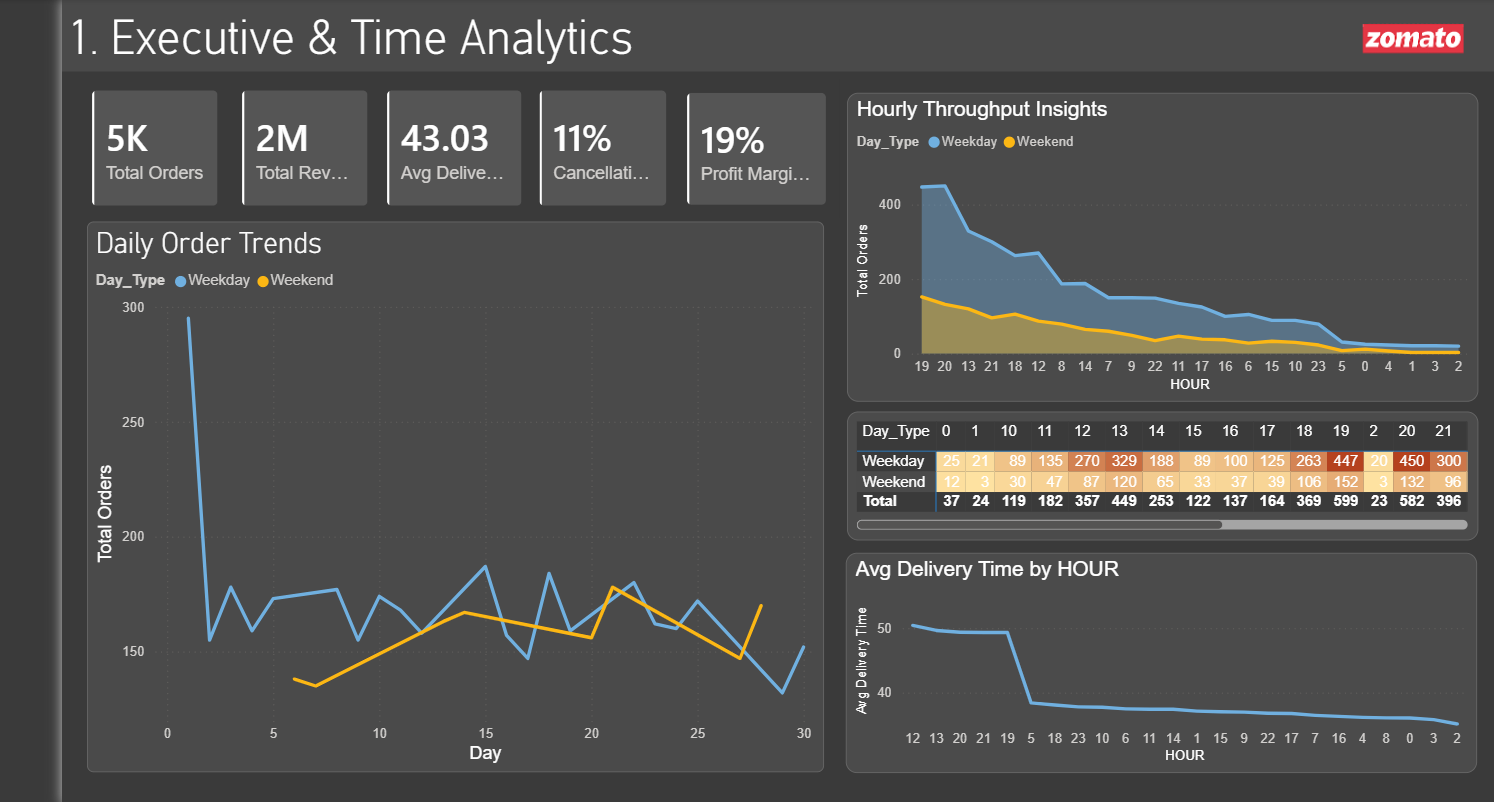

What the dashboard file says about the page in this screenshot:
{"tool":"powerbi","page":{"name":"Exective  & Time ","canvas":[1280,720],"ordinal":0},"visuals":[{"type":"textbox","box":[0,0,1280.2,65.1],"z":0},{"type":"cardVisual","fields":{"Data":["Cleaned Data.Total Orders"]},"box":[9.5,65.2,146.8,137.3],"z":1000},{"type":"lineChart","title":"Daily Order Trends","fields":{"Category":["Cleaned Data.Order_Date.Variation.Date Hierarchy.Day"],"Y":["Cleaned Data.Total Orders"],"Series":["Cleaned Data.Day_Type"]},"box":[22.1,198.8,658.1,491.9],"z":2000},{"type":"areaChart","title":"Hourly Throughput Insights","fields":{"Category":["Cleaned Data.HOUR"],"Y":["Cleaned Data.Total Orders"],"Series":["Cleaned Data.Day_Type"]},"box":[701.2,83.7,563.9,275.8],"z":3000},{"type":"pivotTable","fields":{"Rows":["Cleaned Data.Day_Type"],"Values":["Cleaned Data.Total Orders"],"Columns":["Cleaned Data.HOUR"]},"box":[701.2,368.6,564,115.1],"z":4000},{"type":"lineChart","fields":{"Y":["Cleaned Data.Avg Delivery Time"],"Category":["Cleaned Data.HOUR"]},"box":[700,494.2,564,196.5],"z":5000},{"type":"cardVisual","fields":{"Data":["Cleaned Data.Total Revenue"]},"box":[144.1,65.2,146.8,137.3],"z":6000},{"type":"cardVisual","fields":{"Data":["Cleaned Data.Avg Delivery Time"]},"box":[273.2,65.2,154.9,137.3],"z":7000},{"type":"cardVisual","fields":{"Data":["Cleaned Data.Cancellation Rate %"]},"box":[409.3,65.1,147.7,137.2],"z":8000},{"type":"cardVisual","fields":{"Data":["Cleaned Data.Profit Margin %"]},"box":[541.9,67.4,158.1,134.9],"z":9000},{"type":"image","box":[1133.2,2.3,147,65.4],"z":10000}]}

Visuals, with their boxes on the page's 1280x720 design canvas (x1, y1, x2, y2). These are canvas units, not pixel positions in the 1494x802 screenshot, which may show the page scaled, cropped or inside an application window:
textbox: Rect(0, 0, 1280, 65)
cardVisual - Cleaned Data.Total Orders: Rect(10, 65, 156, 202)
"Daily Order Trends" lineChart: Rect(22, 199, 680, 691)
"Hourly Throughput Insights" areaChart: Rect(701, 84, 1265, 360)
pivotTable - Cleaned Data.Day_Type x Cleaned Data.Total Orders: Rect(701, 369, 1265, 484)
lineChart - Cleaned Data.Avg Delivery Time x Cleaned Data.HOUR: Rect(700, 494, 1264, 691)
cardVisual - Cleaned Data.Total Revenue: Rect(144, 65, 291, 202)
cardVisual - Cleaned Data.Avg Delivery Time: Rect(273, 65, 428, 202)
cardVisual - Cleaned Data.Cancellation Rate %: Rect(409, 65, 557, 202)
cardVisual - Cleaned Data.Profit Margin %: Rect(542, 67, 700, 202)
image: Rect(1133, 2, 1280, 68)
